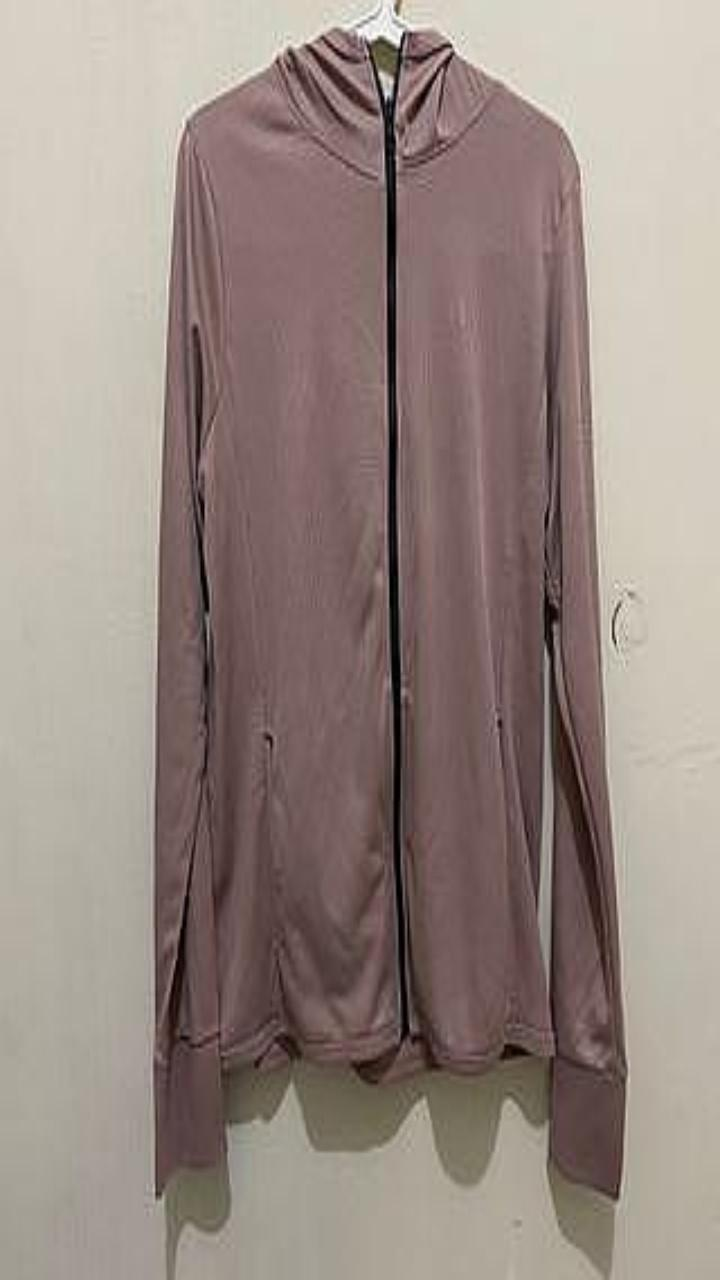Sports_Jacket: (153, 26, 626, 1198)
